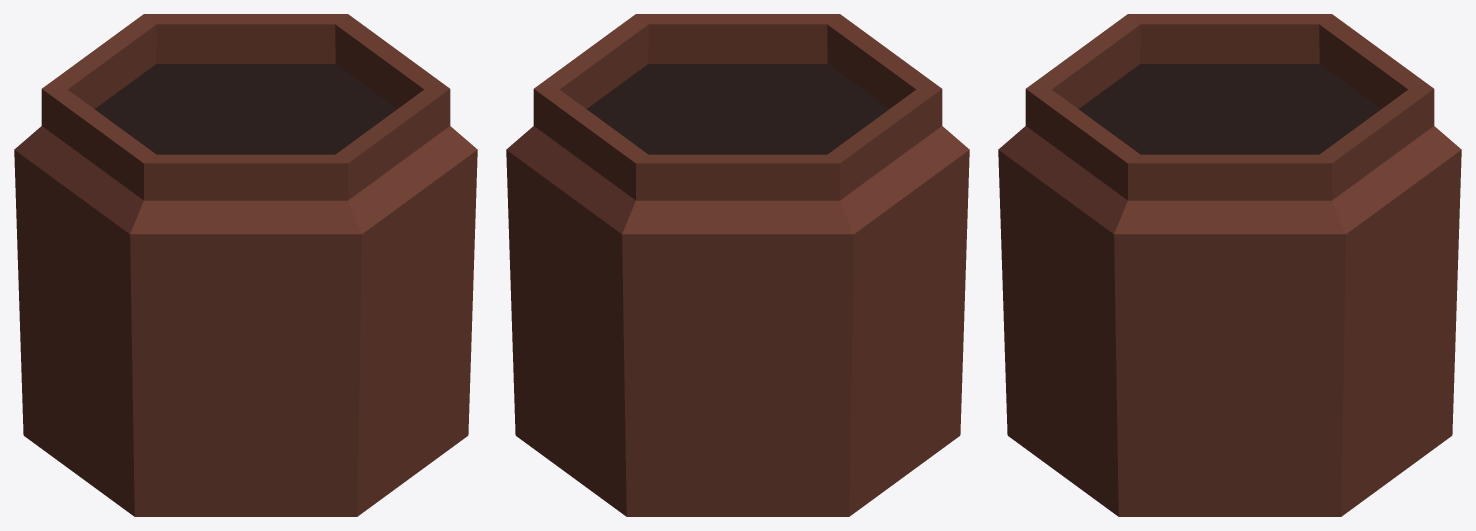
Rendered from MBJ_PlantPack01_Pot03_LOD1_v001.fbx.
The picture shows the model from 3 angles, left to right: view 1: azimuth 30°, elevation 25°; view 2: azimuth 150°, elevation 25°; view 3: azimuth 270°, elevation 25°; orthographic projection.
Visible parts, largest first — view 1: PlantPot03_A.001; view 2: PlantPot03_A.001; view 3: PlantPot03_A.001.
Part boxes in pixels (<box>): PlantPot03_A.001: <box>14,14,477,516</box>; PlantPot03_A.001: <box>506,14,969,516</box>; PlantPot03_A.001: <box>998,14,1461,516</box>.
Size of the model in its own units: 47.98 by 45.74 by 55.4.
